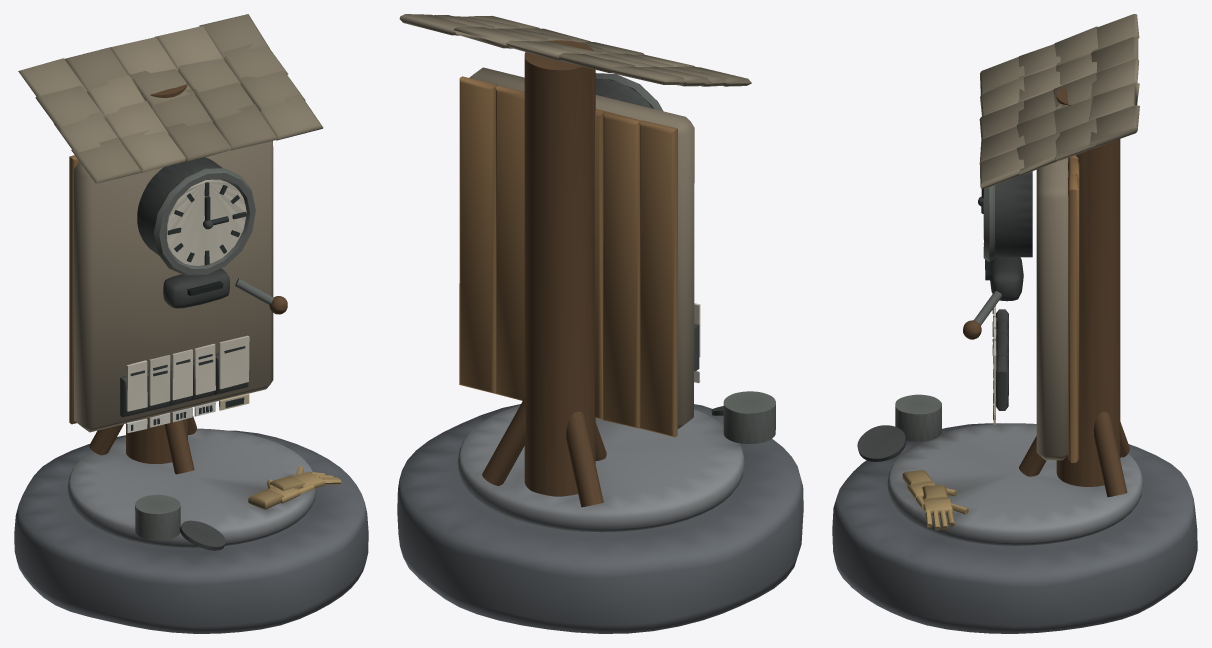
Rendered from clock_post_a.glb.
3 renders of one model, left to right at view 1: azimuth 30°, elevation 25°; view 2: azimuth 150°, elevation 25°; view 3: azimuth 270°, elevation 25°, orthographic. The views are drawn at different scales.
Visible parts, largest first — view 1: Surface; view 2: Surface; view 3: Surface.
Boxes of the visible parts, x1,y1,x2,y2 form: Surface: [14, 14, 368, 633]; Surface: [397, 14, 803, 633]; Surface: [832, 14, 1197, 633].
Bounding box in the file's own units: 1.69 × 2.53 × 1.7.
